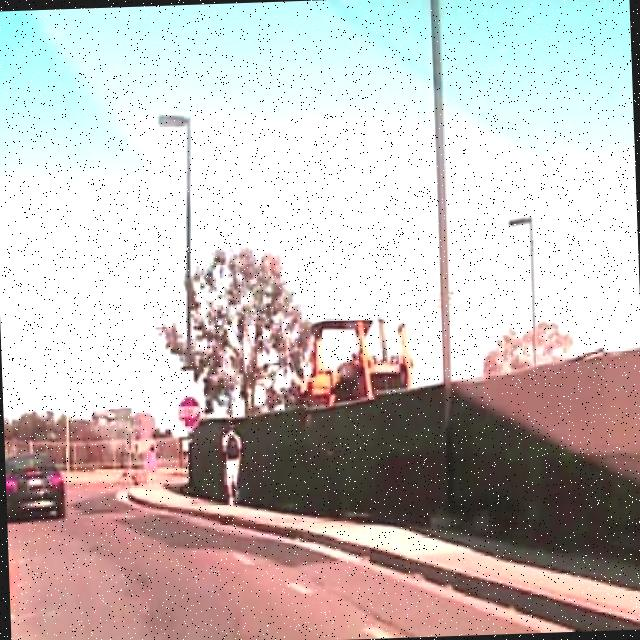Stop: (175, 396, 202, 428)
